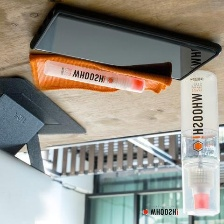cleaning_solution: (178, 67, 221, 219), (41, 57, 148, 96)
phone: (25, 0, 224, 86)
